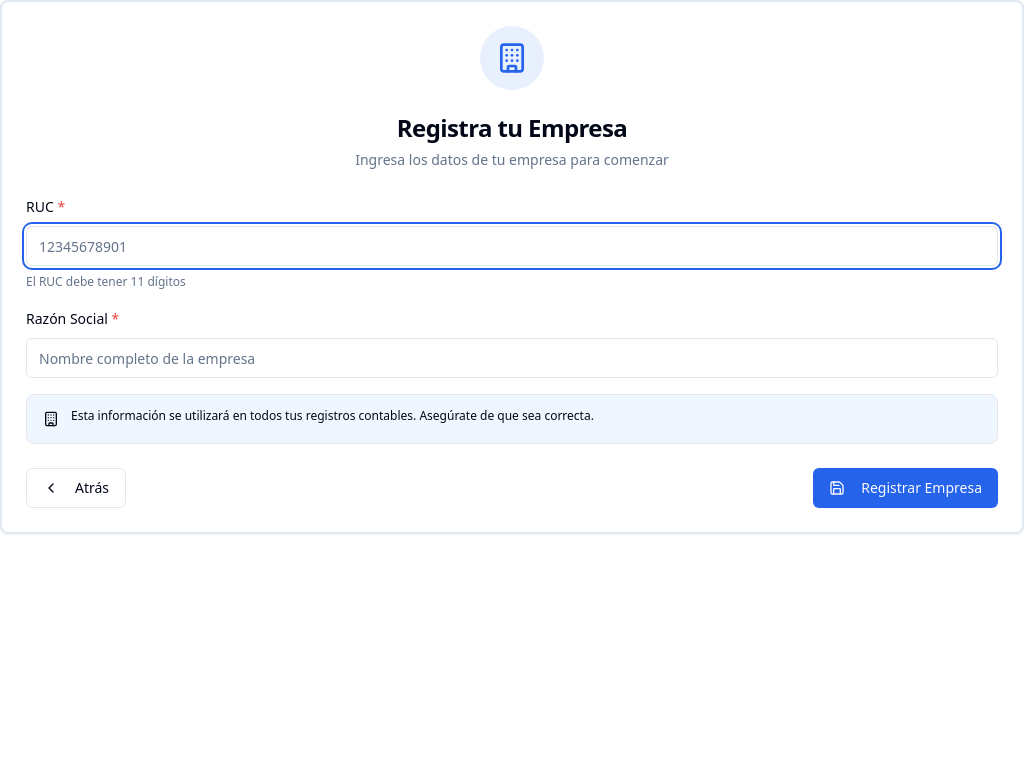
Scenario: CompanyRegistrationStep › valida RUC vacío
This screenshot has width=1024, height=768.
What coordinates should you click on to do the following:
click the button "Registrar Empresa"
I would click on:
 (906, 488)
Its box is [813, 468, 998, 508].
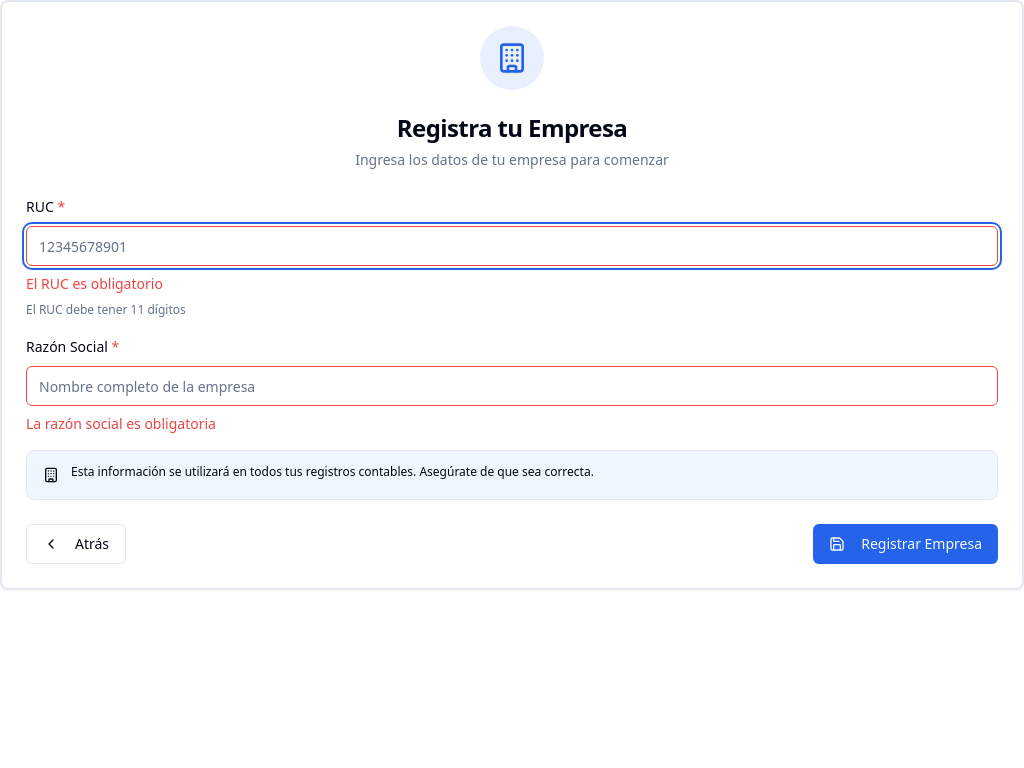
expect the text "El RUC es obligatorio" is shown: met, box [26, 274, 163, 293]
